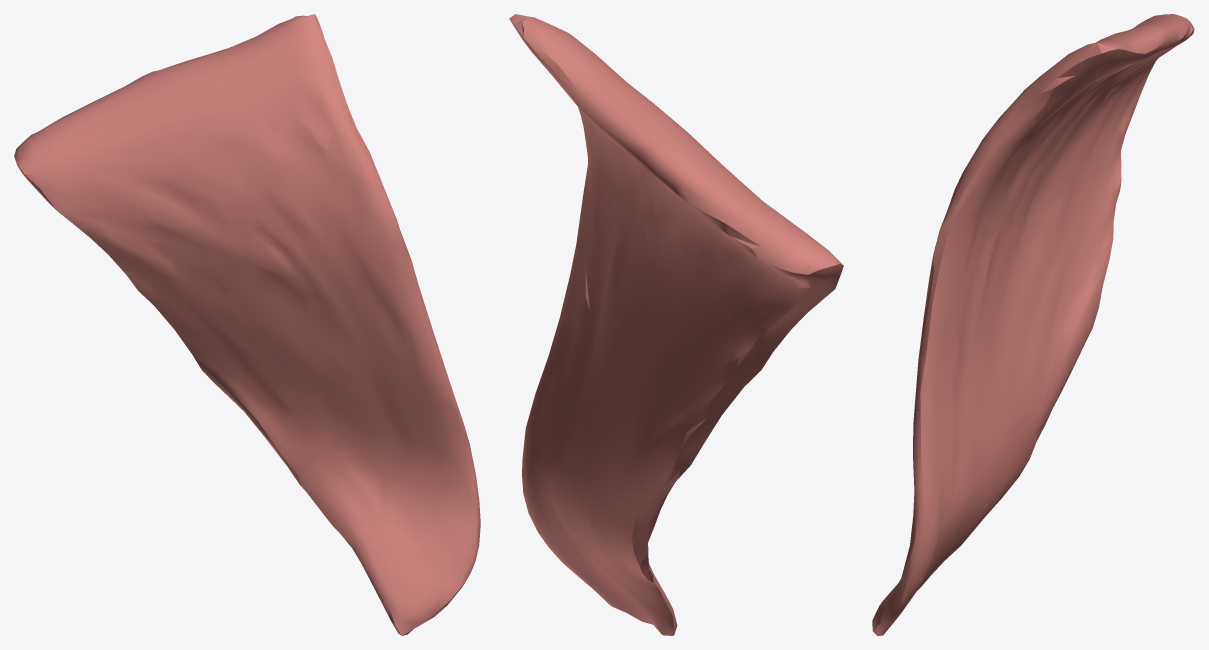
File: fma46806_mm1095m.glb
3 views of the same model, side by side, from view 1: azimuth 30°, elevation 25°; view 2: azimuth 150°, elevation 25°; view 3: azimuth 270°, elevation 25° (orthographic). The views are drawn at different scales.
Visible parts, largest first — view 1: FMA46806_MM1095M; view 2: FMA46806_MM1095M; view 3: FMA46806_MM1095M.
Boxes of the visible parts, x1,y1,x2,y2 form: FMA46806_MM1095M: (14,14,480,635); FMA46806_MM1095M: (509,14,843,635); FMA46806_MM1095M: (872,14,1194,635).
Bounding box in the file's own units: 0.0191 × 0.0284 × 0.0141.
